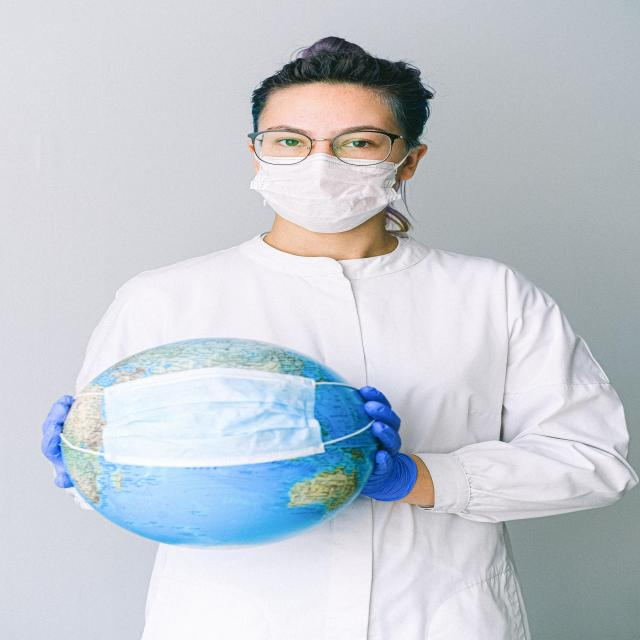Mask: (104, 368, 324, 462), (254, 153, 393, 231)
